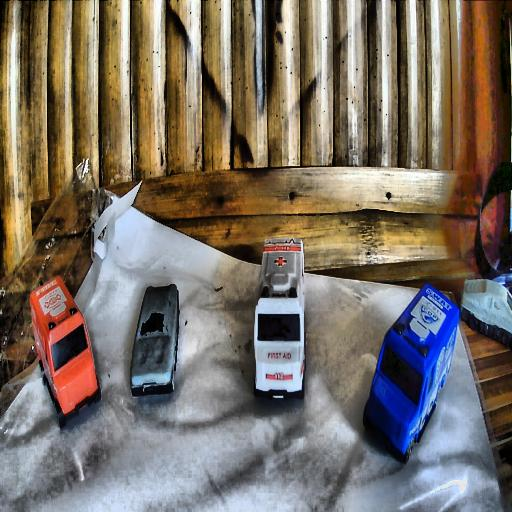ambulance: (252, 236, 306, 400)
fire_truck: (30, 276, 102, 428)
normal_car: (130, 283, 180, 397)
police car: (360, 282, 458, 463)
